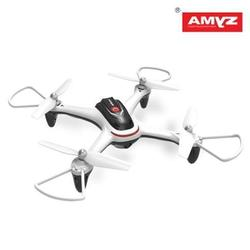drone: (7, 66, 244, 202)
